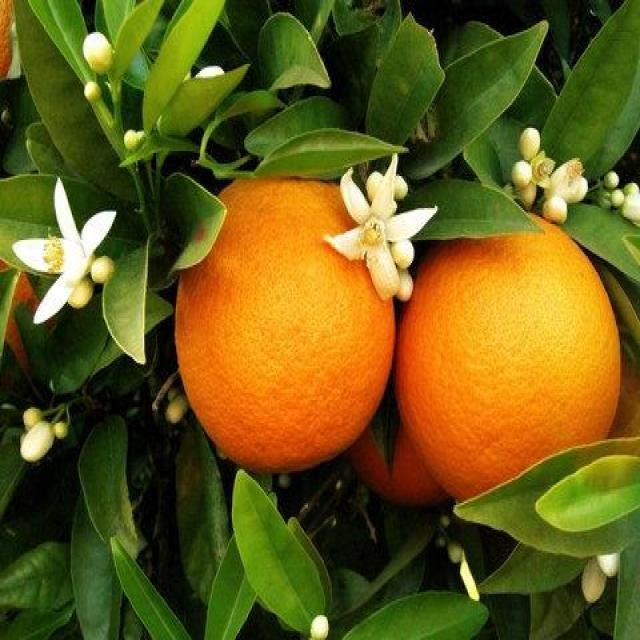Bunga: (324, 151, 436, 299), (12, 176, 118, 325), (542, 156, 588, 202), (20, 422, 56, 462), (84, 30, 114, 76), (581, 556, 607, 602), (64, 276, 96, 312), (529, 151, 555, 189), (365, 167, 387, 203), (390, 236, 414, 268), (520, 126, 540, 162), (624, 183, 640, 228), (392, 270, 416, 299), (542, 196, 568, 222), (388, 171, 410, 201), (597, 551, 620, 578), (90, 258, 114, 282), (512, 162, 534, 188), (310, 613, 330, 640), (84, 82, 103, 102), (51, 421, 70, 441), (124, 130, 140, 152), (26, 405, 42, 427), (602, 170, 618, 188), (610, 190, 624, 206)
Jeruk Sudah Matang: (394, 208, 626, 514), (175, 169, 396, 471)
